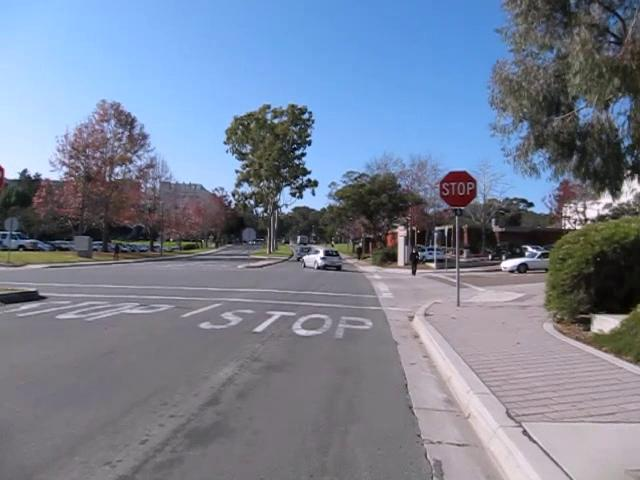stop: (438, 169, 478, 208)
